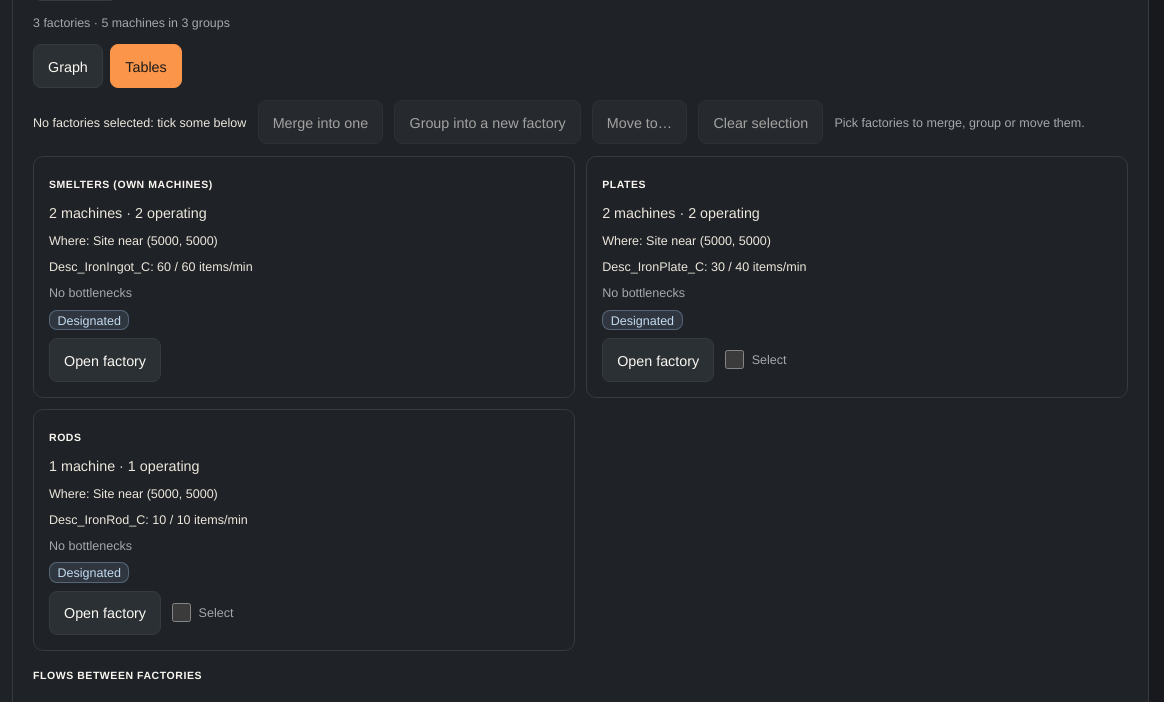
the factory tree in the Planner › the own-machines card opens the parent's groups, named as such
(page scrolled)
Click the button with aria-label "Open factory: Smelters (own machines)" at [105, 360], box [49,338,161,382]
(page scrolled)
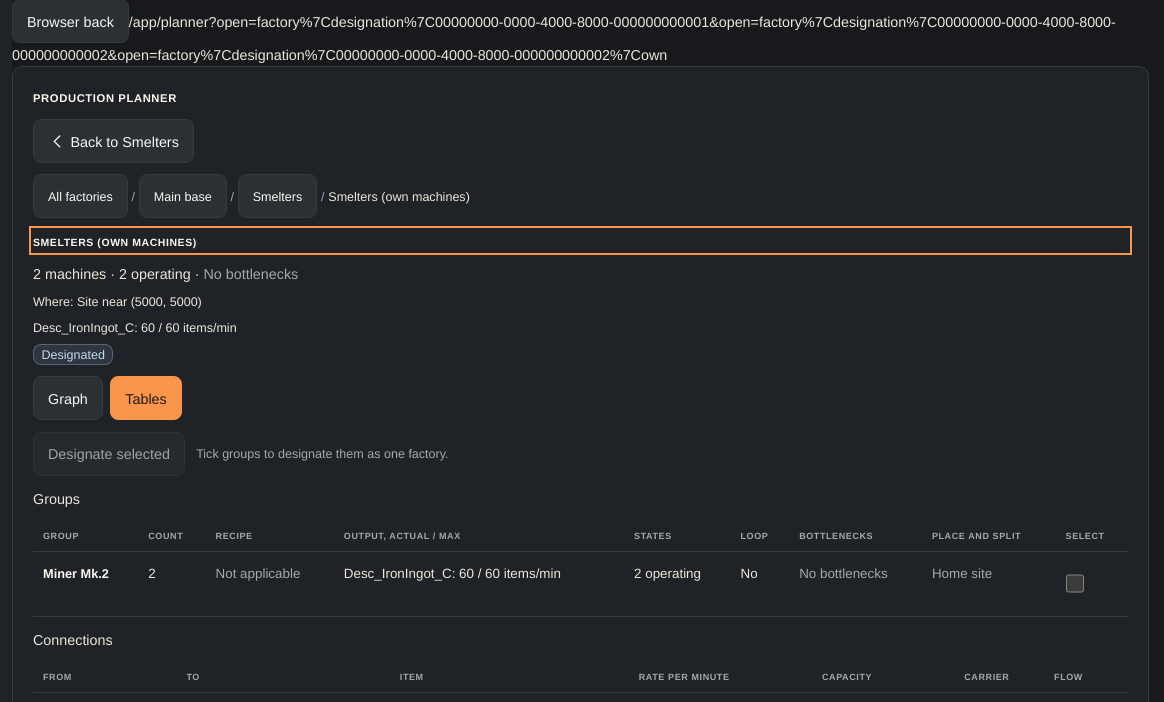
Expected: the heading "Groups" is shown, [33,489,80,507]
